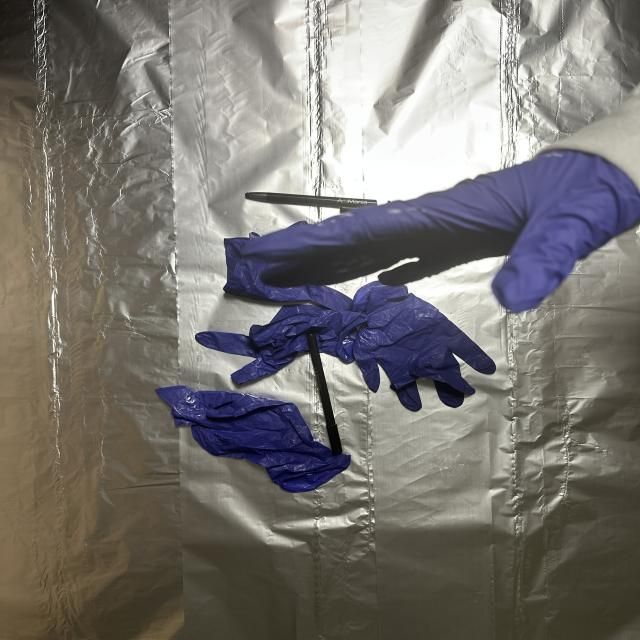gloves_contaminated: (250, 150, 640, 312)
